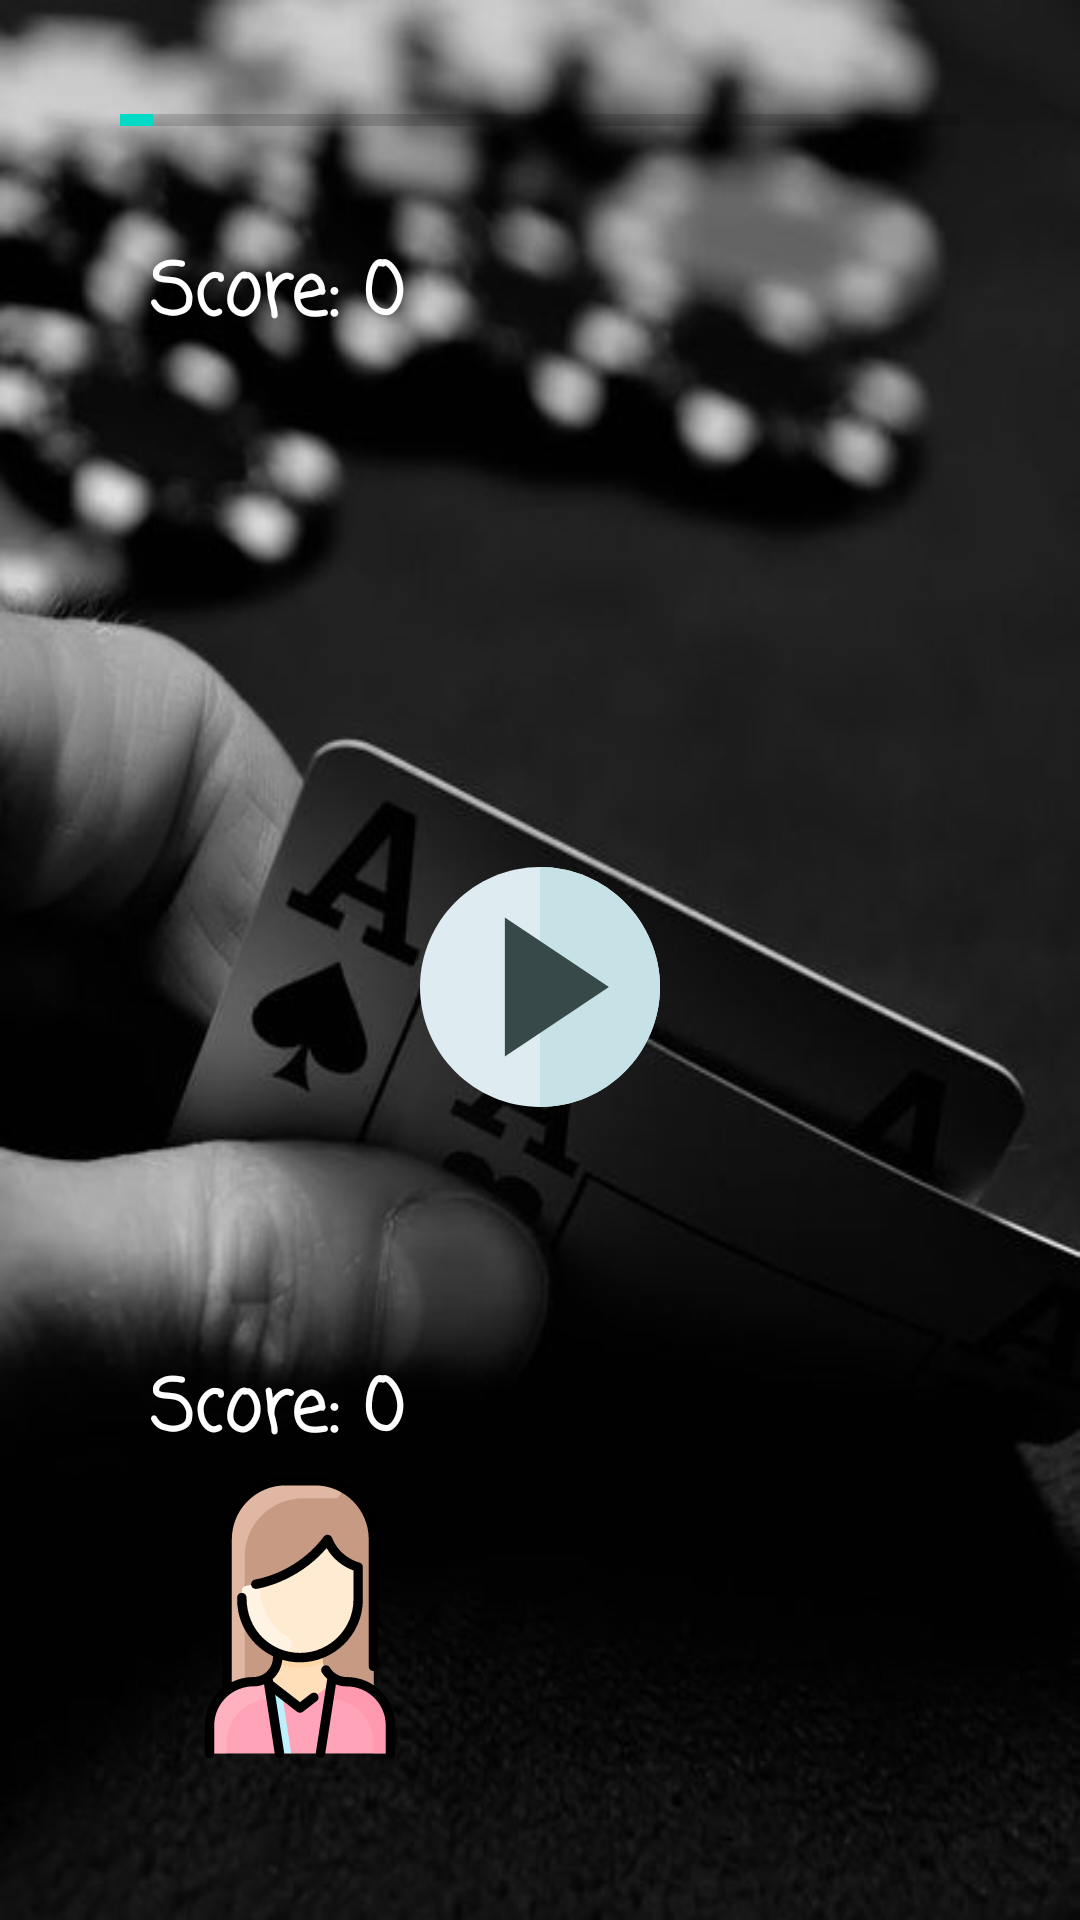

Icons on this 1080w x 1920h Android screen, each with its box as Rect(x1, y1, x2, y2):
play: Rect(420, 867, 660, 1107)
player: Rect(214, 1485, 414, 1760)
